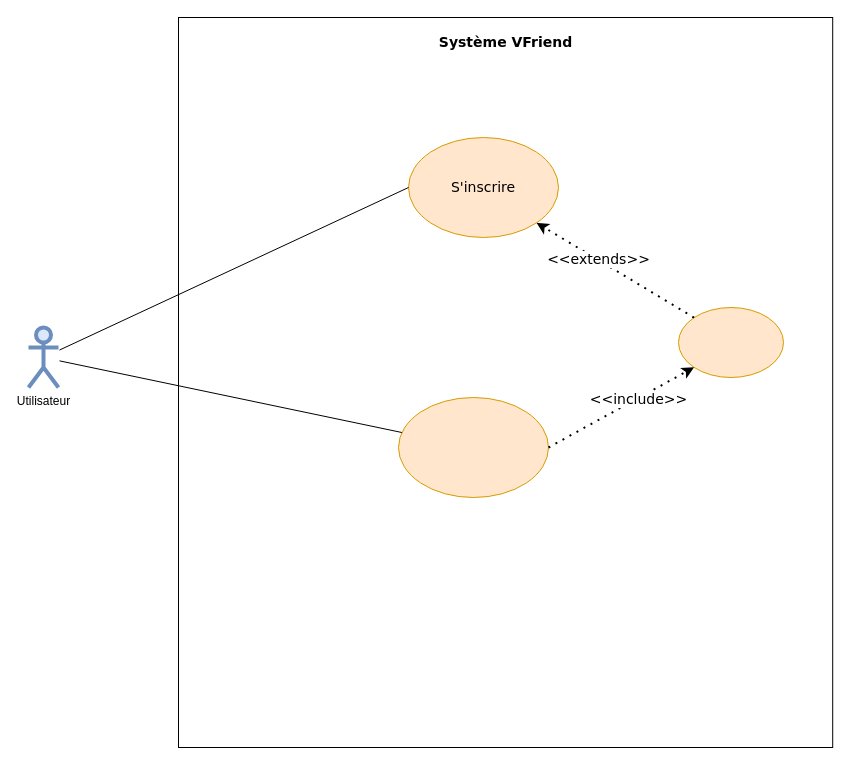
Image size: 851x765. Some labels were removed from this diagram. Here are the shapes that lost their labels. From the top down, the centre of each, then its label:
At point 731,342: "S'authentifier".
At point 473,447: "Envoyer un message à l'IA".
